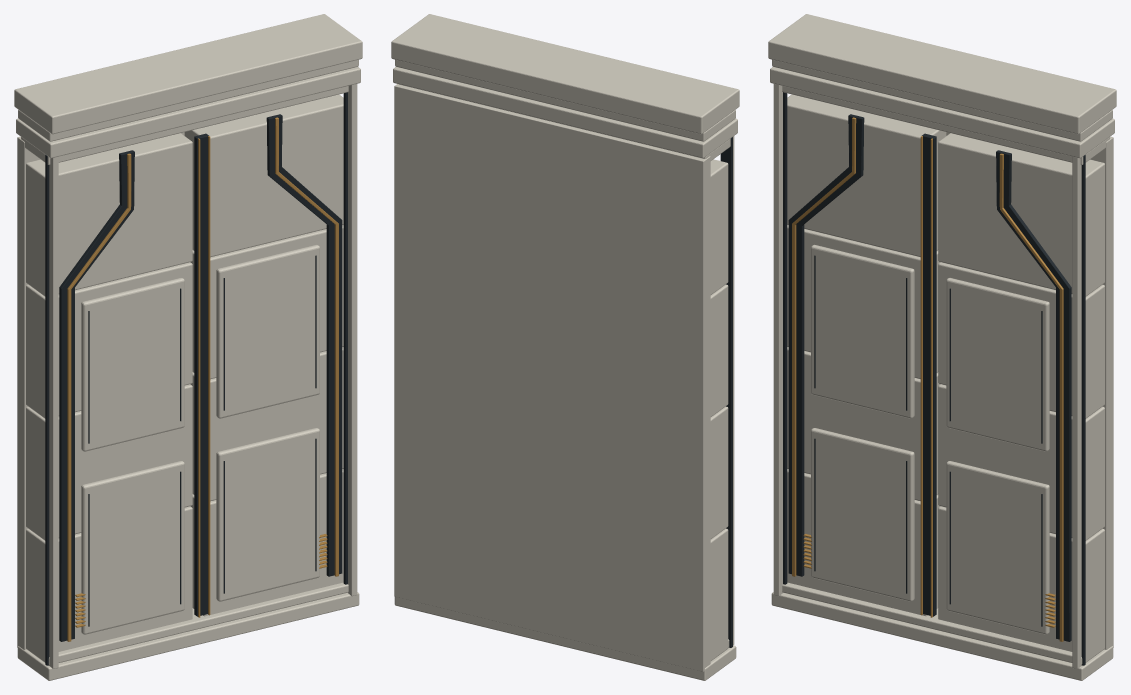
Rendered from SM_Aurelion_KIT_WallPlain_4x7.fbx.
3 views of the same model, side by side, from view 1: azimuth 30°, elevation 25°; view 2: azimuth 150°, elevation 25°; view 3: azimuth 330°, elevation 25° (orthographic).
Parts seen in each view (by area): view 1: SM_Aurelion_KIT_WallPlain_4x7; view 2: SM_Aurelion_KIT_WallPlain_4x7; view 3: SM_Aurelion_KIT_WallPlain_4x7.
Boxes of the visible parts, x1,y1,x2,y2 form: SM_Aurelion_KIT_WallPlain_4x7: [14, 14, 362, 680]; SM_Aurelion_KIT_WallPlain_4x7: [391, 14, 739, 680]; SM_Aurelion_KIT_WallPlain_4x7: [768, 14, 1116, 680].
Bounding box in the file's own units: 400 × 85 × 697.
